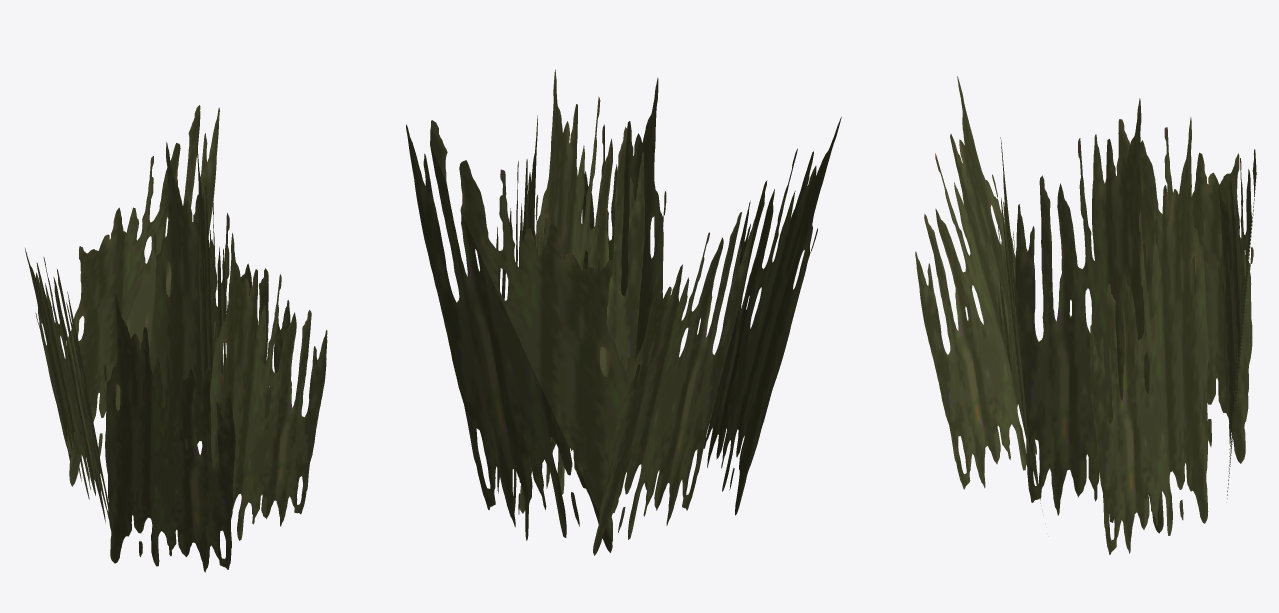
File: cao2_2.fbx
3 renders of one model, left to right at view 1: azimuth 30°, elevation 25°; view 2: azimuth 150°, elevation 25°; view 3: azimuth 270°, elevation 25°, orthographic. The views are drawn at different scales.
Parts seen in each view (by area): view 1: cao2_2; view 2: cao2_2; view 3: cao2_2.
Part boxes in pixels (<box>): cao2_2: <box>25,105,327,572</box>; cao2_2: <box>406,69,841,555</box>; cao2_2: <box>915,76,1256,554</box>.
Bounding box in the file's own units: 157 × 249 × 161.
